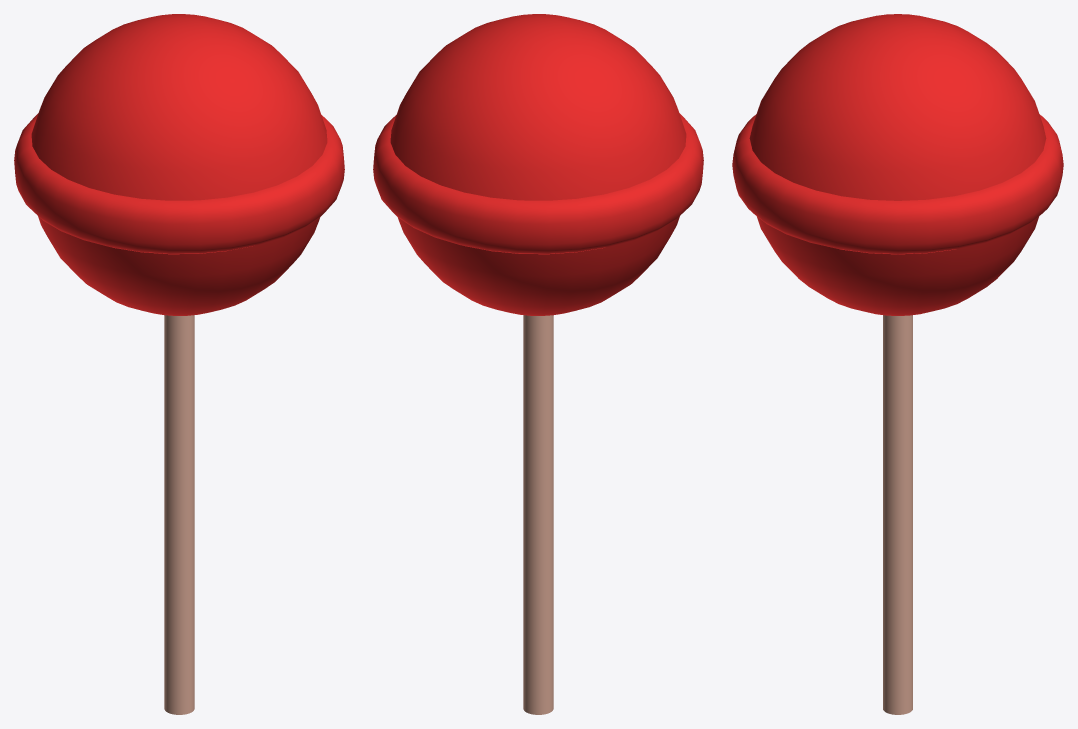
File: loly pop v1.fbx
3 renders of one model, left to right at view 1: azimuth 30°, elevation 25°; view 2: azimuth 150°, elevation 25°; view 3: azimuth 270°, elevation 25°, orthographic.
Visible parts, largest first — view 1: Cylinder; view 2: Cylinder; view 3: Cylinder.
Boxes of the visible parts, left/top/right/bottom form: Cylinder: left=14, top=14, right=344, bottom=714; Cylinder: left=373, top=14, right=703, bottom=714; Cylinder: left=732, top=14, right=1063, bottom=714.
Size of the model in its own units: 555 by 1258 by 555.
